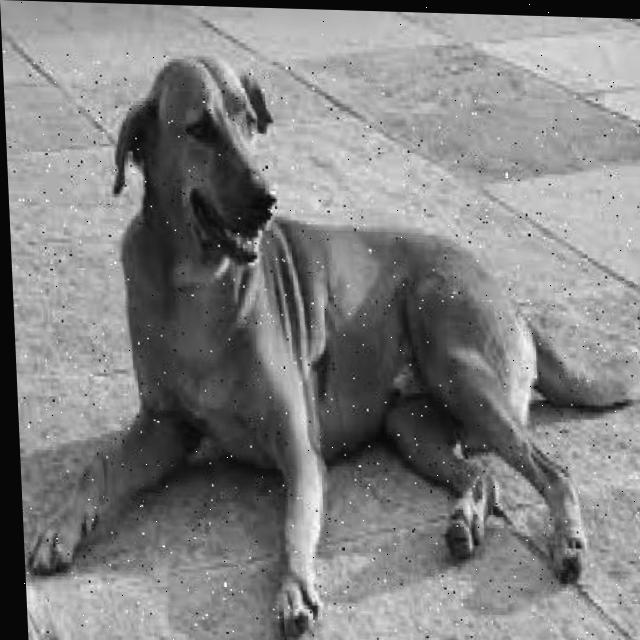Dog: (2, 49, 640, 640)
